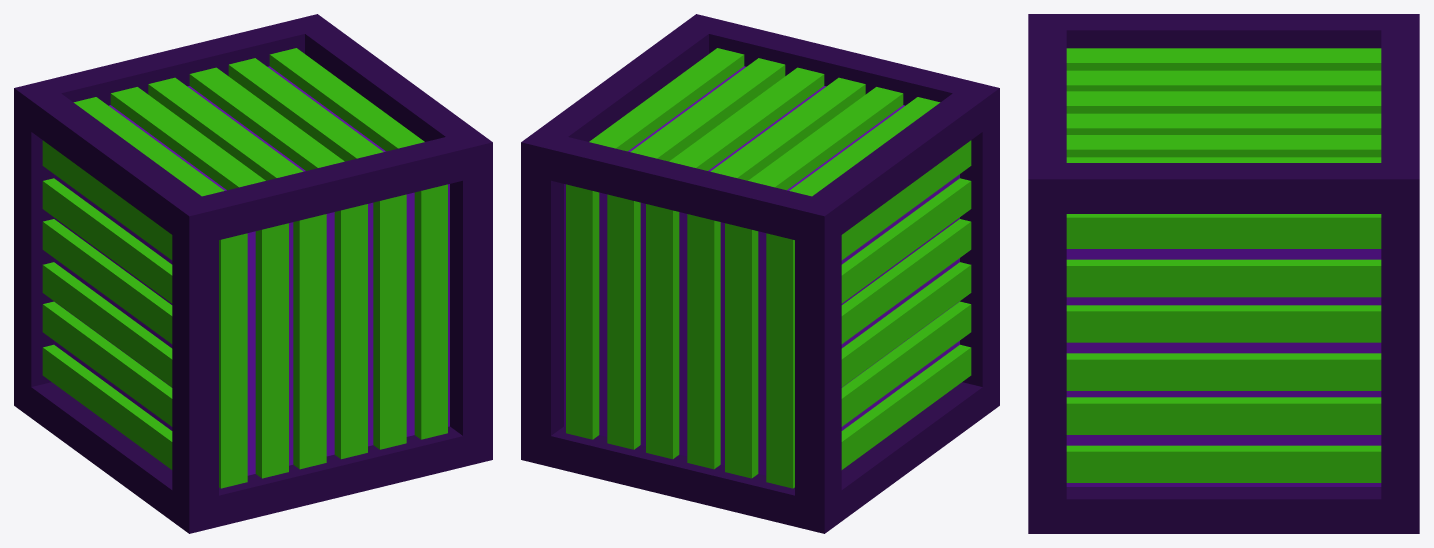
File: caja.fbx
The picture shows the model from 3 angles, left to right: view 1: azimuth 30°, elevation 25°; view 2: azimuth 150°, elevation 25°; view 3: azimuth 270°, elevation 25°; orthographic projection. The views are drawn at different scales.
Parts seen in each view (by area): view 1: Mesh; view 2: Mesh; view 3: Mesh.
Boxes of the visible parts, left/top/right/bottom form: Mesh: left=14, top=14, right=492, bottom=533; Mesh: left=521, top=14, right=999, bottom=533; Mesh: left=1028, top=14, right=1419, bottom=533.
Size of the model in its own units: 100 by 100 by 100.
